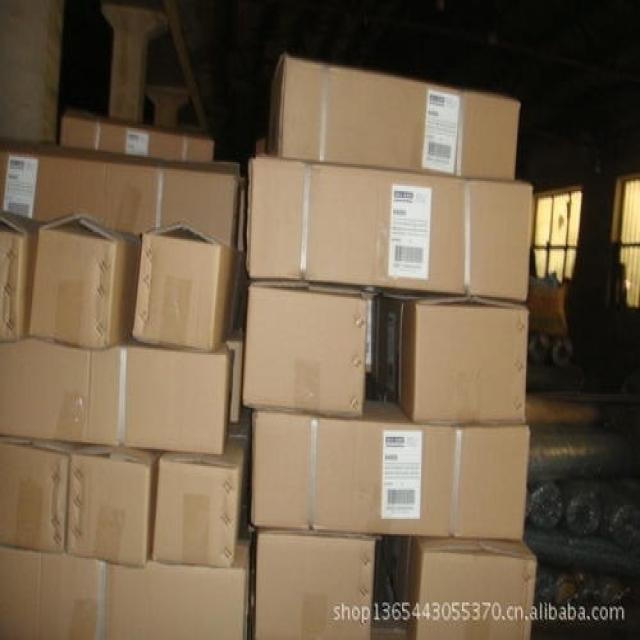box: (251, 394, 531, 543), (247, 159, 534, 304), (269, 55, 521, 183), (0, 333, 236, 456), (0, 527, 255, 640), (0, 138, 239, 247), (381, 288, 529, 427), (242, 280, 370, 420), (152, 406, 253, 570), (28, 210, 143, 352), (383, 536, 538, 640), (133, 218, 242, 352), (255, 529, 376, 640), (63, 444, 166, 568), (0, 437, 83, 555), (60, 111, 215, 160), (0, 212, 40, 341), (225, 329, 242, 423)
